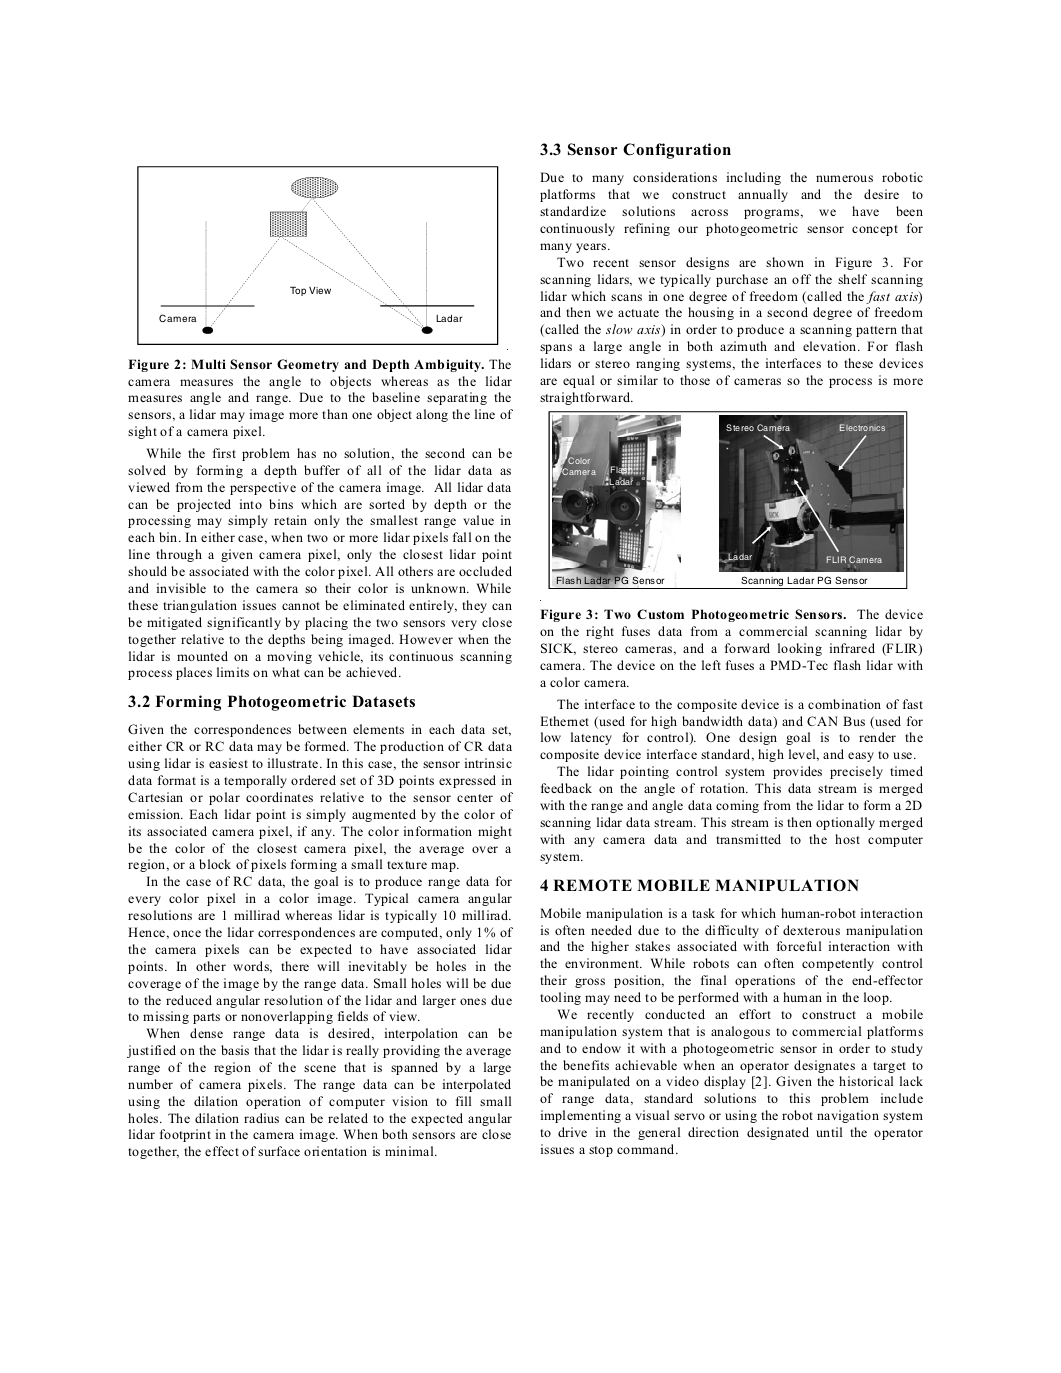figure: (137, 165, 498, 345), (548, 411, 907, 588)
